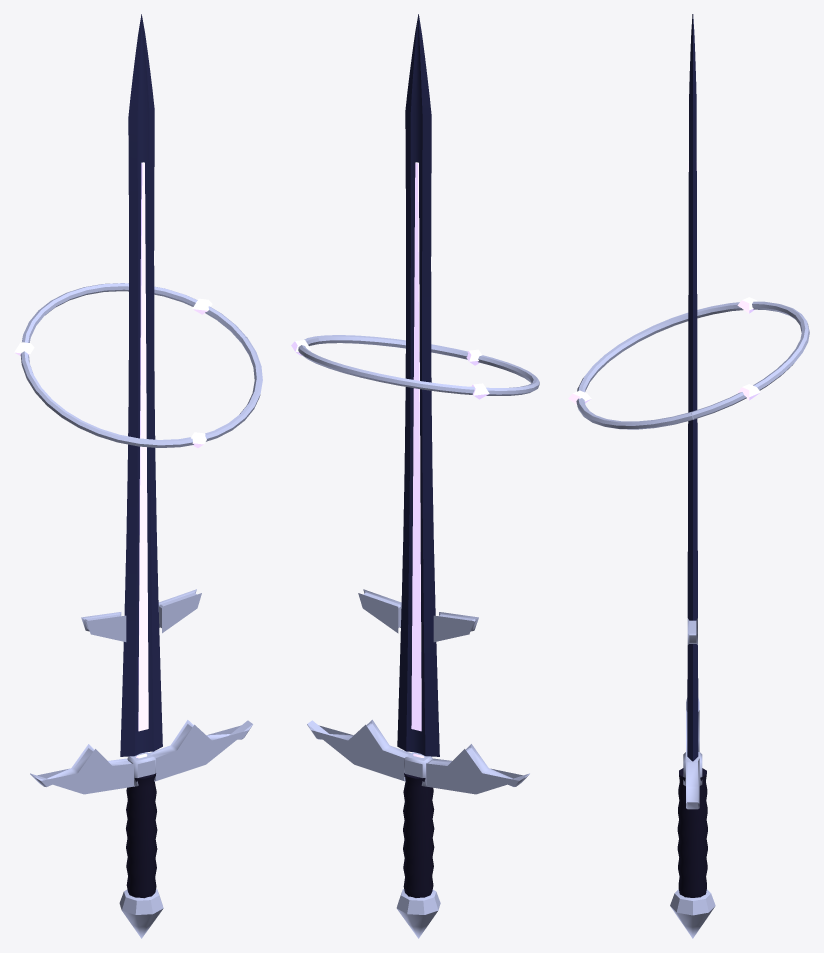
The model's file is asc_starfall_vanguard_weapon.glb.
3 views of the same model, side by side, from view 1: azimuth 30°, elevation 25°; view 2: azimuth 150°, elevation 25°; view 3: azimuth 270°, elevation 25° (orthographic).
Parts seen in each view (by area): view 1: asc_starfall_vanguard_weapon; view 2: asc_starfall_vanguard_weapon; view 3: asc_starfall_vanguard_weapon.
Boxes of the visible parts, <box> form: asc_starfall_vanguard_weapon: <box>14,14,262,938</box>; asc_starfall_vanguard_weapon: <box>291,14,539,938</box>; asc_starfall_vanguard_weapon: <box>568,14,809,938</box>.
Bounding box in the file's own units: 0.2974 × 1.2 × 0.2853.
